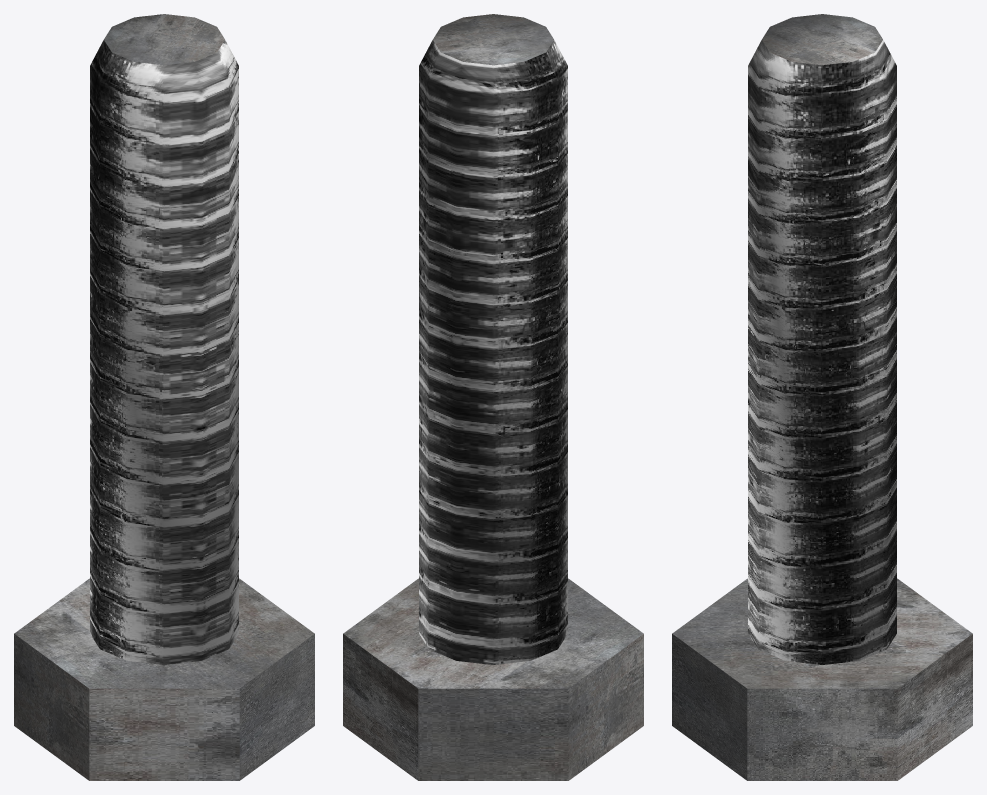
File: vis.fbx
3 renders of one model, left to right at view 1: azimuth 30°, elevation 25°; view 2: azimuth 150°, elevation 25°; view 3: azimuth 270°, elevation 25°, orthographic.
Visible parts, largest first — view 1: Vis; view 2: Vis; view 3: Vis.
Boxes of the visible parts, x1,y1,x2,y2 form: Vis: [14, 14, 314, 780]; Vis: [343, 14, 643, 780]; Vis: [672, 14, 972, 780].
Size of the model in its own units: 45.21 by 131 by 52.21.
Materials: 1 (1 with a texture image).
